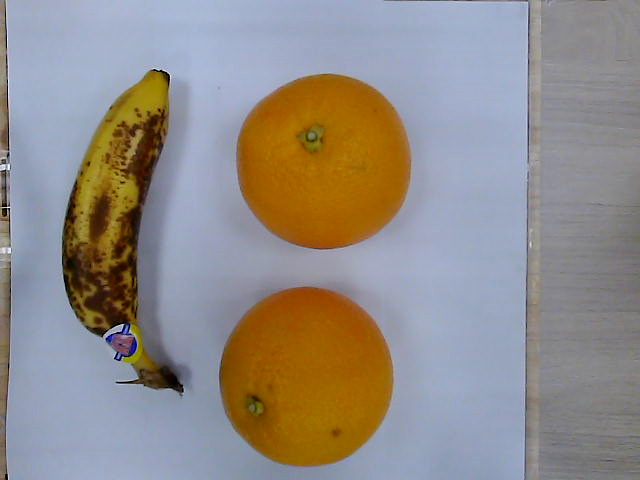fresh_orange: (220, 286, 395, 468), (236, 75, 412, 247)
rotten_banana: (61, 68, 187, 395)
